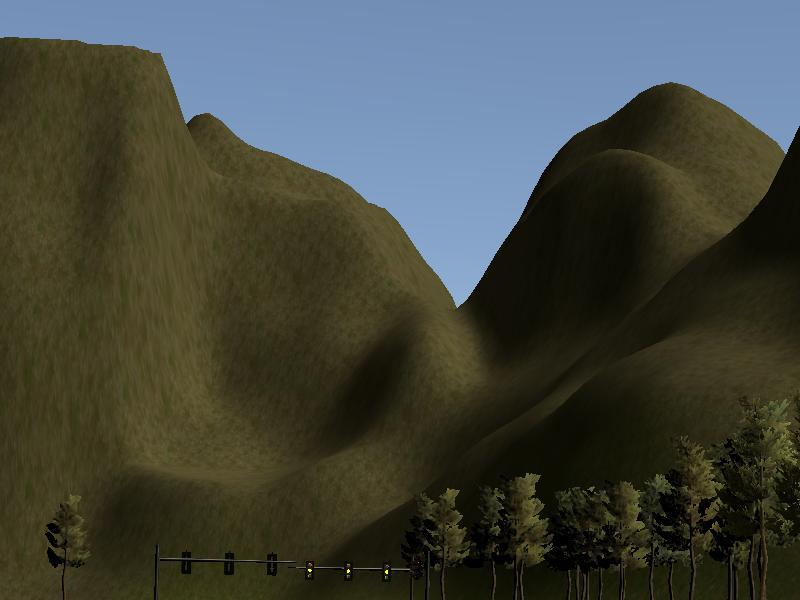Yellow: (305, 560, 314, 582), (344, 560, 353, 582), (382, 562, 391, 582)
